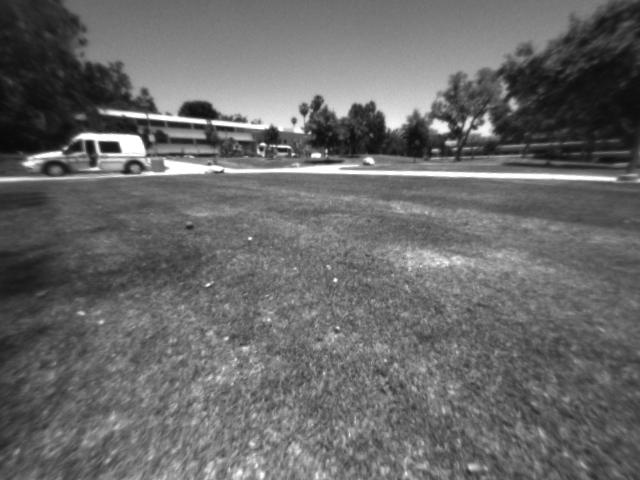dogtoy: (179, 215, 199, 236)
